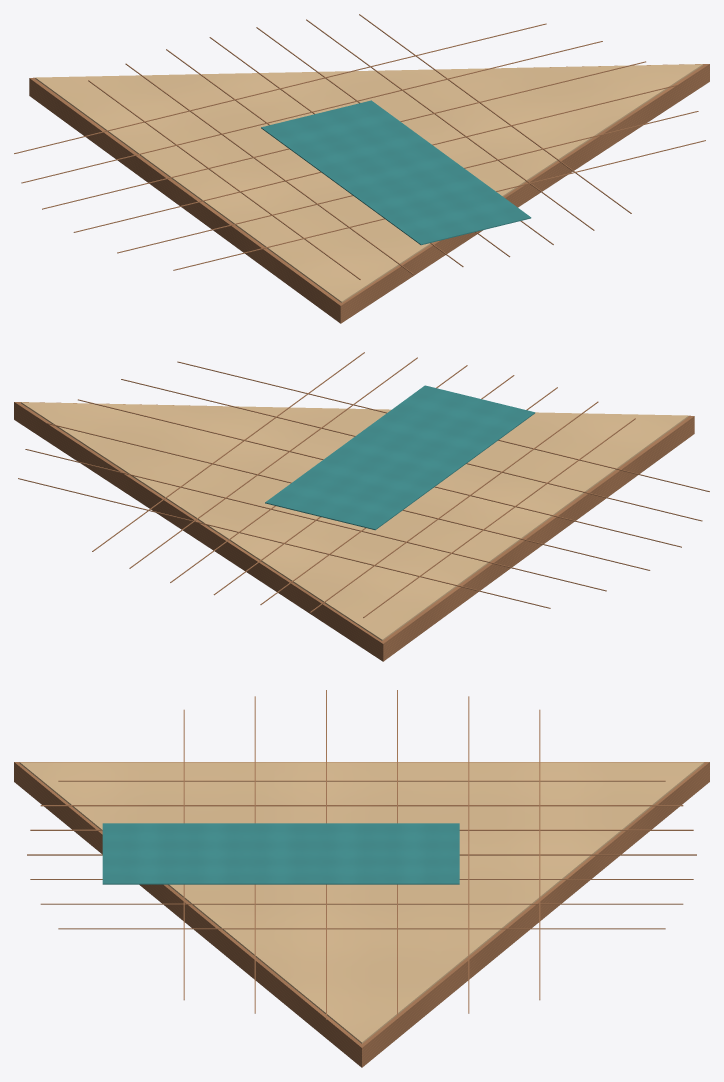
The model's file is atlas100-s095-a07.lod2.glb.
3 renders of one model, top to bottom at view 1: azimuth 30°, elevation 25°; view 2: azimuth 150°, elevation 25°; view 3: azimuth 270°, elevation 25°, orthographic. The views are drawn at different scales.
Parts seen in each view (by area): view 1: atlas100-s095-a07:part-001, atlas100-s095-a07:part-021, atlas100-s095-a07:part-000, atlas100-s095-a07:part-015, atlas100-s095-a07:part-014, atlas100-s095-a07:part-016, atlas100-s095-a07:part-017, atlas100-s095-a07:part-018, atlas100-s095-a07:part-019, atlas100-s095-a07:part-005, atlas100-s095-a07:part-009, atlas100-s095-a07:part-004 (+1 smaller); view 2: atlas100-s095-a07:part-001, atlas100-s095-a07:part-021, atlas100-s095-a07:part-000, atlas100-s095-a07:part-015, atlas100-s095-a07:part-014, atlas100-s095-a07:part-017, atlas100-s095-a07:part-016, atlas100-s095-a07:part-018, atlas100-s095-a07:part-019, atlas100-s095-a07:part-005, atlas100-s095-a07:part-009, atlas100-s095-a07:part-004 (+1 smaller); view 3: atlas100-s095-a07:part-001, atlas100-s095-a07:part-021, atlas100-s095-a07:part-000, atlas100-s095-a07:part-009, atlas100-s095-a07:part-005, atlas100-s095-a07:part-004, atlas100-s095-a07:part-010, atlas100-s095-a07:part-015, atlas100-s095-a07:part-007, atlas100-s095-a07:part-006.
Boxes of the visible parts, bbox=[...] form: atlas100-s095-a07:part-001: bbox=[35, 64, 702, 302]; atlas100-s095-a07:part-021: bbox=[261, 100, 531, 245]; atlas100-s095-a07:part-000: bbox=[29, 64, 709, 323]; atlas100-s095-a07:part-015: bbox=[21, 41, 602, 183]; atlas100-s095-a07:part-014: bbox=[14, 23, 546, 153]; atlas100-s095-a07:part-016: bbox=[42, 61, 645, 209]; atlas100-s095-a07:part-017: bbox=[73, 84, 677, 232]; atlas100-s095-a07:part-018: bbox=[117, 111, 698, 253]; atlas100-s095-a07:part-019: bbox=[173, 140, 705, 270]; atlas100-s095-a07:part-005: bbox=[125, 63, 413, 274]; atlas100-s095-a07:part-009: bbox=[306, 19, 594, 230]; atlas100-s095-a07:part-004: bbox=[88, 80, 360, 279]; atlas100-s095-a07:part-001: bbox=[21, 402, 688, 640]; atlas100-s095-a07:part-021: bbox=[265, 385, 535, 530]; atlas100-s095-a07:part-000: bbox=[14, 402, 694, 661]; atlas100-s095-a07:part-015: bbox=[25, 449, 606, 591]; atlas100-s095-a07:part-014: bbox=[18, 478, 550, 608]; atlas100-s095-a07:part-017: bbox=[78, 399, 681, 547]; atlas100-s095-a07:part-016: bbox=[46, 422, 650, 570]; atlas100-s095-a07:part-018: bbox=[121, 379, 702, 521]; atlas100-s095-a07:part-019: bbox=[177, 361, 709, 491]; atlas100-s095-a07:part-005: bbox=[310, 401, 598, 612]; atlas100-s095-a07:part-009: bbox=[129, 357, 417, 568]; atlas100-s095-a07:part-004: bbox=[363, 418, 635, 617]; atlas100-s095-a07:part-001: bbox=[19, 762, 704, 1043]; atlas100-s095-a07:part-021: bbox=[102, 823, 459, 884]; atlas100-s095-a07:part-000: bbox=[14, 762, 709, 1067]; atlas100-s095-a07:part-009: bbox=[40, 903, 683, 904]; atlas100-s095-a07:part-005: bbox=[40, 805, 683, 806]; atlas100-s095-a07:part-004: bbox=[58, 780, 665, 781]; atlas100-s095-a07:part-010: bbox=[58, 928, 665, 929]; atlas100-s095-a07:part-015: bbox=[468, 696, 469, 1013]; atlas100-s095-a07:part-007: bbox=[27, 854, 696, 855]; atlas100-s095-a07:part-006: bbox=[30, 829, 693, 830].
Bounding box in the file's own units: 12.99 × 0.404 × 10.76.
Materials: 3 (3 with a texture image).
